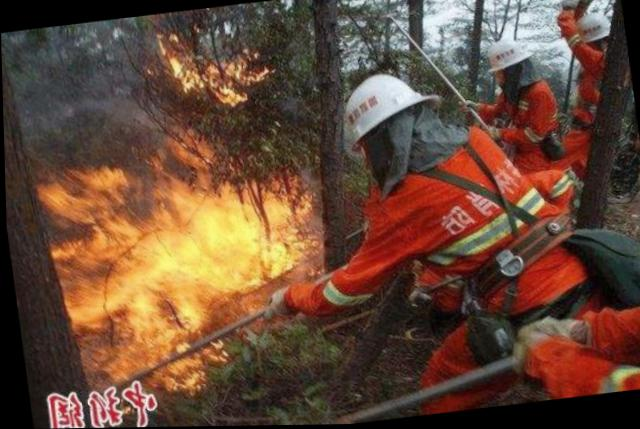fire: (33, 133, 337, 403), (155, 18, 283, 119)
